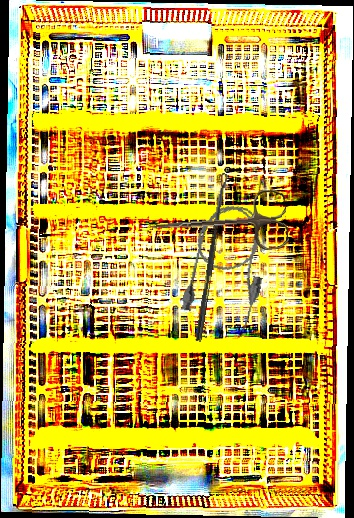Cannula: (178, 199, 277, 333)
Iris Scissors: (149, 188, 290, 260)
Surgical Spoon: (195, 172, 229, 343)
